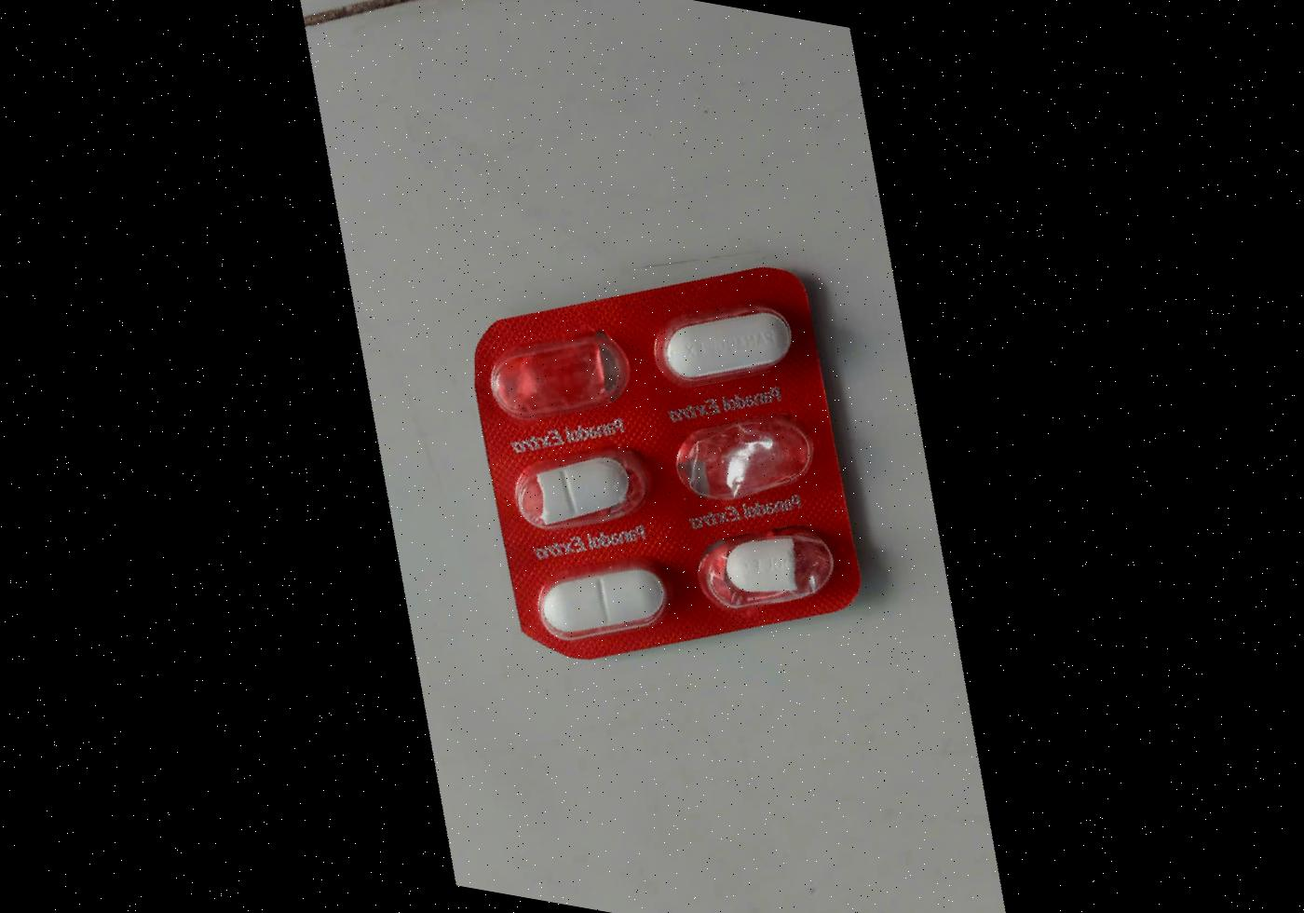Empty: (482, 319, 634, 440), (668, 400, 821, 520)
Full: (527, 540, 680, 661), (652, 281, 803, 399)
Partial: (510, 438, 662, 556), (698, 511, 849, 629)
